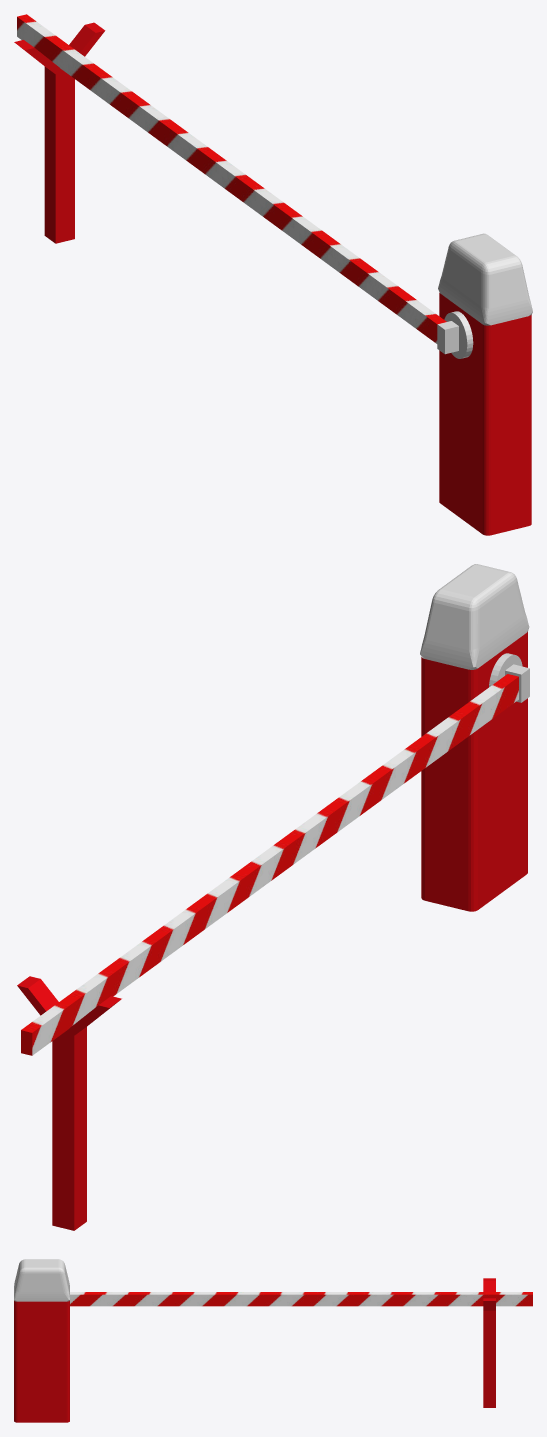
File: barrier.fbx
The picture shows the model from 3 angles, top to bottom: view 1: azimuth 30°, elevation 25°; view 2: azimuth 150°, elevation 25°; view 3: azimuth 270°, elevation 25°; orthographic projection. The views are drawn at different scales.
Visible parts, largest first — view 1: Cube, Cylinder; view 2: Cube, Cylinder; view 3: Cube, Cylinder.
Boxes of the visible parts, x1,y1,x2,y2 form: Cube: [14, 22, 532, 535]; Cylinder: [17, 14, 473, 358]; Cube: [17, 564, 529, 1230]; Cylinder: [21, 653, 529, 1055]; Cube: [14, 1259, 495, 1422]; Cylinder: [70, 1292, 532, 1306].
Bounding box in the file's own units: 67.16 × 167 × 517.
